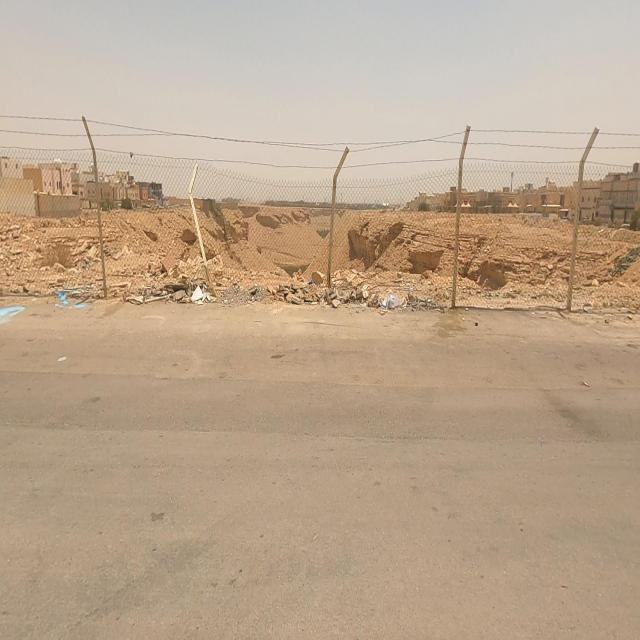debris: (104, 252, 246, 333), (34, 266, 112, 336), (356, 266, 420, 336)
